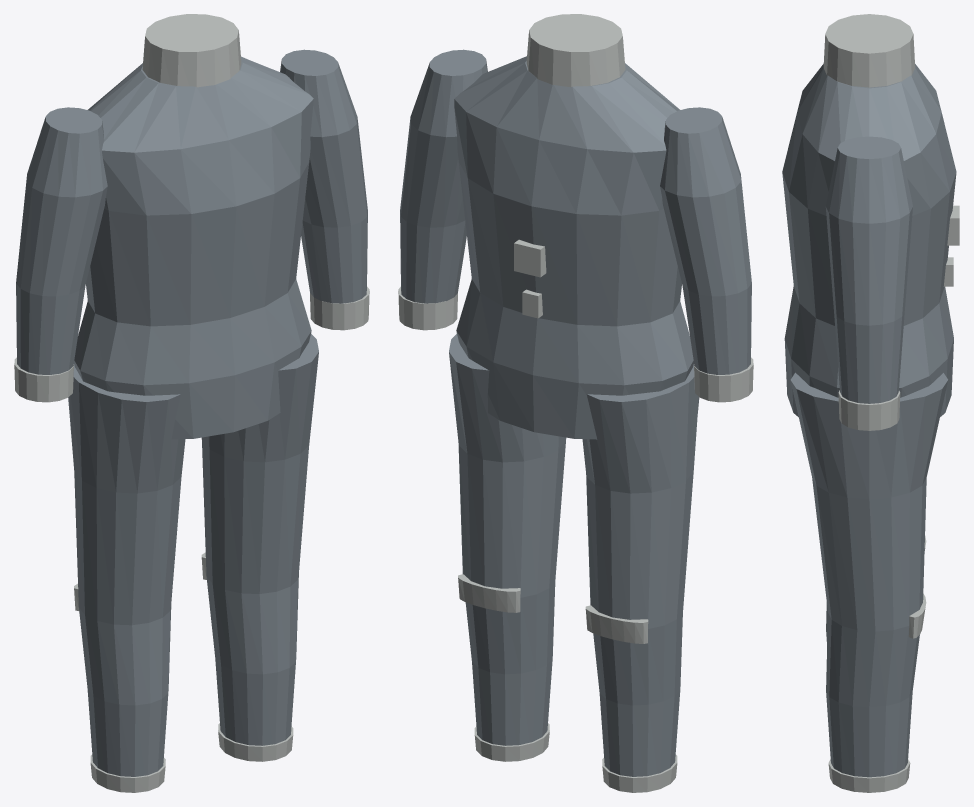
3 views of the same model, side by side, from view 1: azimuth 30°, elevation 25°; view 2: azimuth 150°, elevation 25°; view 3: azimuth 270°, elevation 25° (orthographic).
Parts seen in each view (by area): view 1: CHAR-062; view 2: CHAR-062; view 3: CHAR-062.
Boxes of the visible parts, left/top/right/bottom form: CHAR-062: left=14, top=14, right=369, bottom=792; CHAR-062: left=398, top=14, right=753, bottom=792; CHAR-062: left=782, top=14, right=959, bottom=792.
Size of the model in its own units: 0.3264 by 0.6539 by 0.1473.
2 materials, 2 textured.
